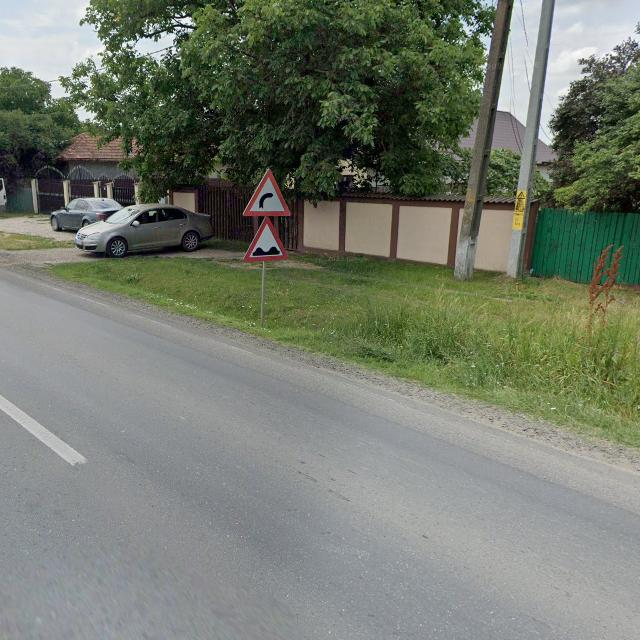warn_poor_road_surface: (242, 216, 288, 262)
